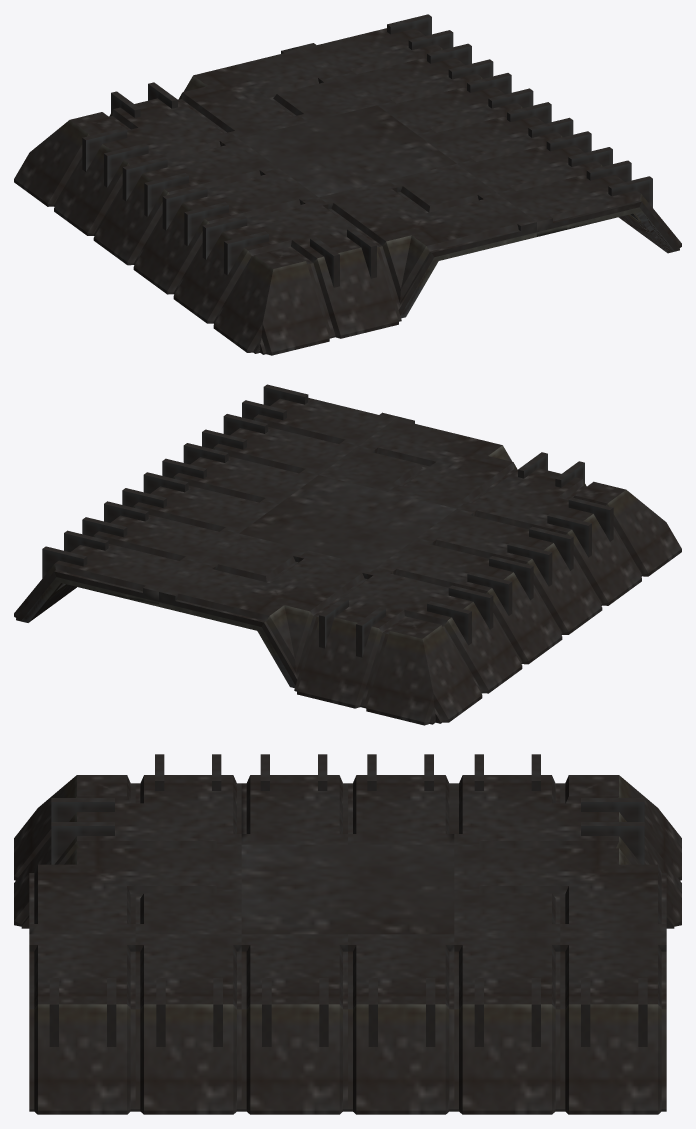
File: Autonomous_unit_3_Ceiling.FBX
3 views of the same model, one above another, from view 1: azimuth 30°, elevation 25°; view 2: azimuth 150°, elevation 25°; view 3: azimuth 270°, elevation 25° (orthographic). The views are drawn at different scales.
Visible parts, largest first — view 1: Autonomous_unit_3_Ceiling; view 2: Autonomous_unit_3_Ceiling; view 3: Autonomous_unit_3_Ceiling.
Part boxes in pixels (x1,y1,x2,y2): Autonomous_unit_3_Ceiling: [14, 14, 681, 355]; Autonomous_unit_3_Ceiling: [14, 384, 681, 725]; Autonomous_unit_3_Ceiling: [14, 754, 681, 1114].
Size of the model in its own units: 943 by 147 by 944.
